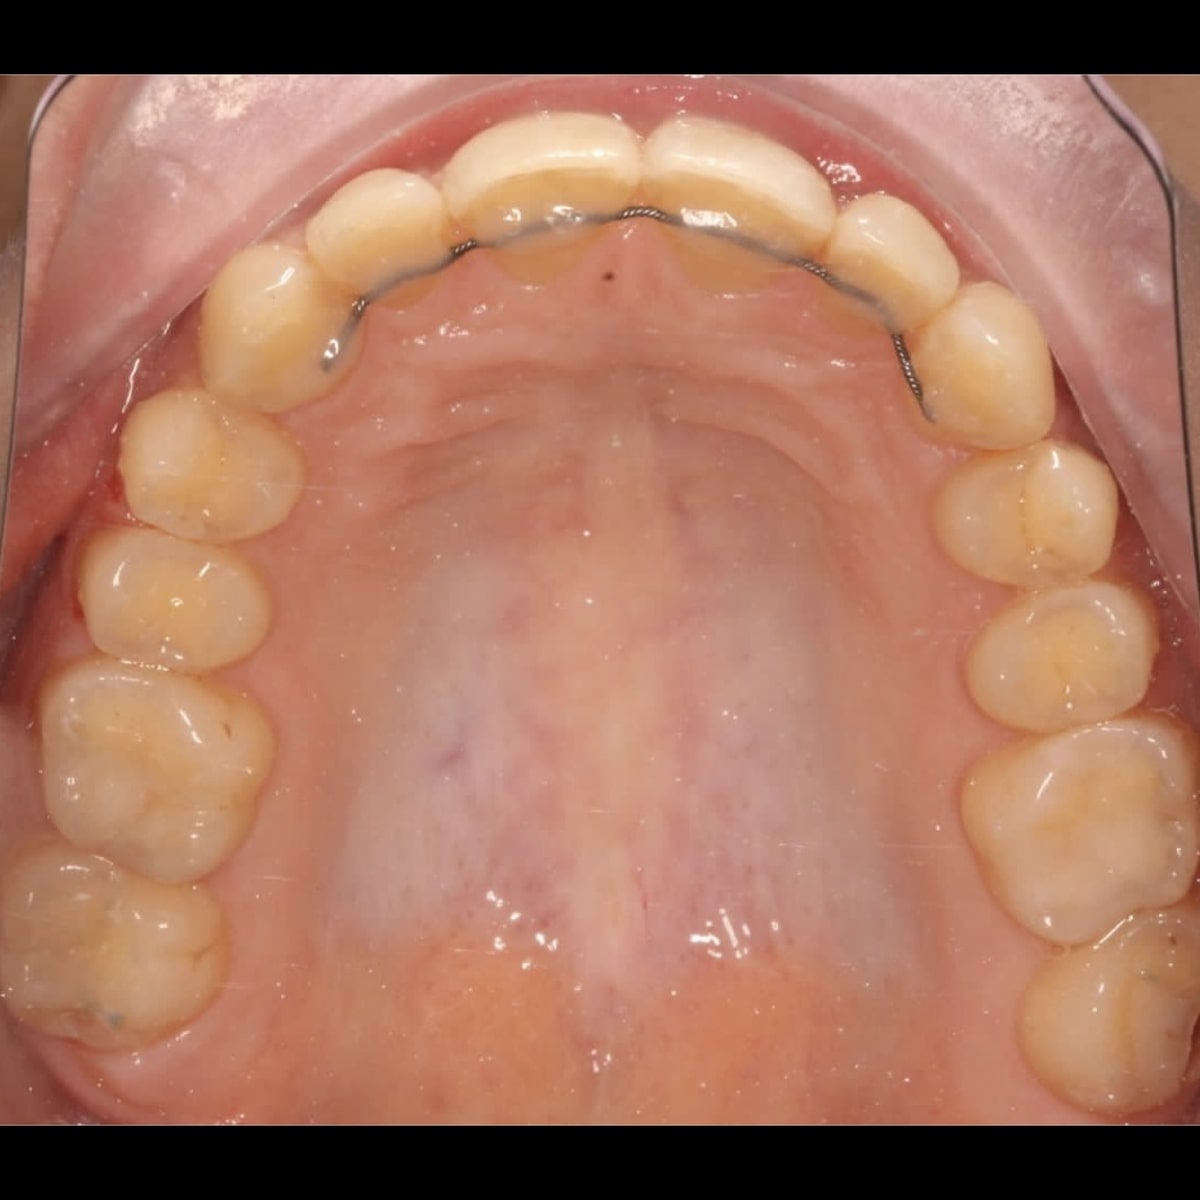UL1BC_healthy: (922, 435, 1131, 575)
UL1M_healthy: (955, 721, 1200, 951)
UL2BC_healthy: (951, 584, 1149, 741)
UL2M_healthy: (1015, 903, 1200, 1120)
ULCI_decay: (641, 116, 822, 274)
ULC_decay: (897, 292, 1057, 443)
ULLI_decay: (831, 182, 935, 347)
UR1BC_healthy: (115, 404, 314, 541)
UR1M_decay: (41, 668, 281, 885)
UR2BC_healthy: (64, 529, 277, 678)
UR2M_decay: (1, 842, 227, 1054)
URCI_decay: (455, 112, 640, 262)
URC_decay: (201, 241, 365, 414)
URLI_decay: (305, 160, 451, 305)
